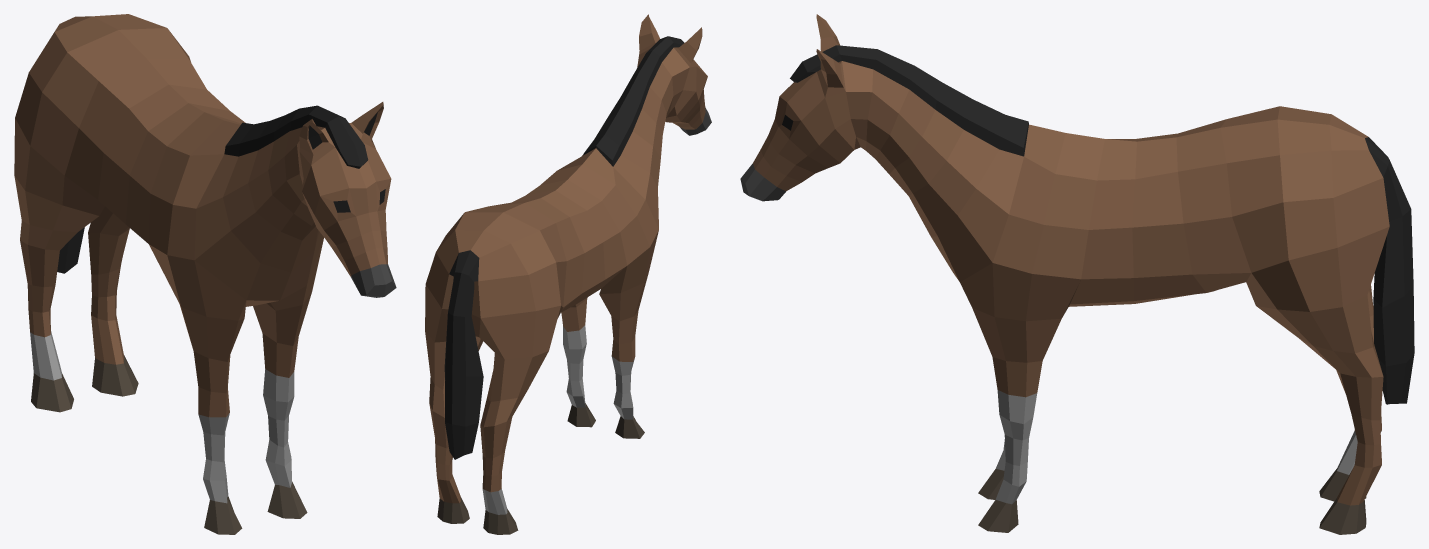
Rendered from asset.gltf.
The picture shows the model from 3 angles, left to right: view 1: azimuth 30°, elevation 25°; view 2: azimuth 150°, elevation 25°; view 3: azimuth 270°, elevation 25°; orthographic projection. The views are drawn at different scales.
Parts seen in each view (by area): view 1: horse; view 2: horse; view 3: horse.
Part boxes in pixels (x1=…): horse: x1=14, y1=14, x2=396, y2=534; horse: x1=425, y1=14, x2=711, y2=534; horse: x1=740, y1=14, x2=1414, y2=534.
Size of the model in its own units: 0.7234 by 1.99 by 2.54.
